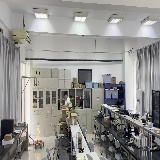fire: (35, 124, 40, 142)
